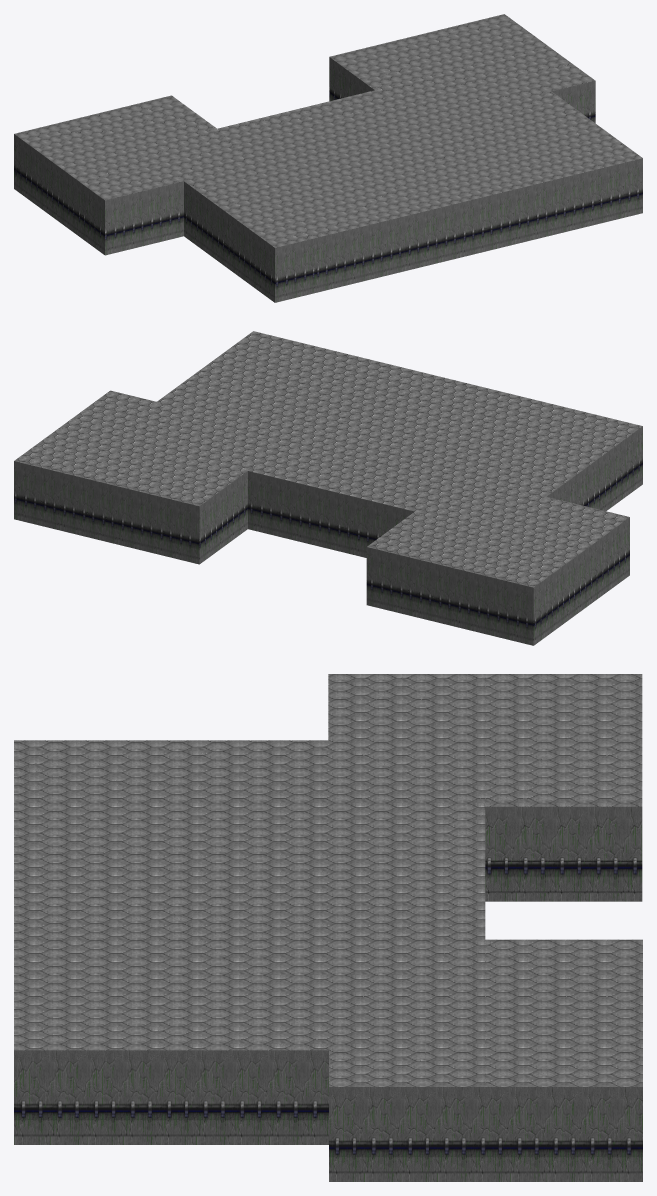
The model's file is TestLevel.glb.
3 views of the same model, one above another, from view 1: azimuth 30°, elevation 25°; view 2: azimuth 150°, elevation 25°; view 3: azimuth 270°, elevation 25° (orthographic). The views are drawn at different scales.
Visible parts, largest first — view 1: Plane; view 2: Plane; view 3: Plane.
Boxes of the visible parts, x1,y1,x2,y2 form: Plane: [14, 14, 642, 302]; Plane: [14, 331, 642, 645]; Plane: [14, 674, 642, 1181].
Bounding box in the file's own units: 28 × 3 × 18.02.
2 materials, 2 textured.
